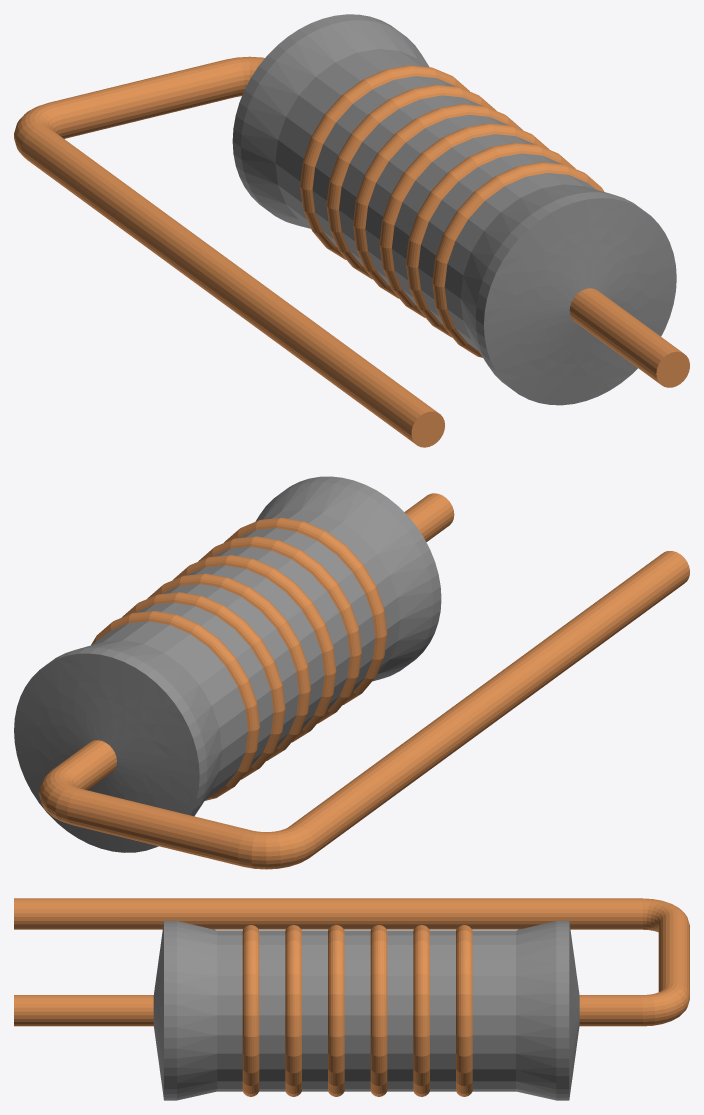
The model's file is L_Axial_L9.5mm_D4.0mm_P5.08mm_Vertical_Fastron_SMCC.glb.
The picture shows the model from 3 angles, top to bottom: view 1: azimuth 30°, elevation 25°; view 2: azimuth 150°, elevation 25°; view 3: azimuth 270°, elevation 25°; orthographic projection. The views are drawn at different scales.
Parts seen in each view (by area): view 1: Shape_IndexedFaceSet.002, Shape_IndexedFaceSet.025, Shape_IndexedFaceSet.018, Shape_IndexedFaceSet.023, Shape_IndexedFaceSet.017, Shape_IndexedFaceSet.001, Shape_IndexedFaceSet.005, Shape_IndexedFaceSet.004, Shape_IndexedFaceSet.006, Shape_IndexedFaceSet.008, Shape_IndexedFaceSet.010, Shape_IndexedFaceSet.014 (+12 smaller); view 2: Shape_IndexedFaceSet.020, Shape_IndexedFaceSet.025, Shape_IndexedFaceSet.004, Shape_IndexedFaceSet.023, Shape_IndexedFaceSet.017, Shape_IndexedFaceSet.018, Shape_IndexedFaceSet.016, Shape_IndexedFaceSet.012, Shape_IndexedFaceSet.008, Shape_IndexedFaceSet.006, Shape_IndexedFaceSet.014, Shape_IndexedFaceSet.010 (+12 smaller); view 3: Shape_IndexedFaceSet.025, Shape_IndexedFaceSet.017, Shape_IndexedFaceSet.018, Shape_IndexedFaceSet.004, Shape_IndexedFaceSet.001, Shape_IndexedFaceSet.007, Shape_IndexedFaceSet.011, Shape_IndexedFaceSet.013, Shape_IndexedFaceSet.005, Shape_IndexedFaceSet.009, Shape_IndexedFaceSet.015, Shape_IndexedFaceSet.006 (+13 smaller).
Part boxes in pixels (x1=…): Shape_IndexedFaceSet.002: x1=484, y1=198, x2=676, y2=405; Shape_IndexedFaceSet.025: x1=21, y1=126, x2=437, y2=444; Shape_IndexedFaceSet.018: x1=240, y1=20, x2=429, y2=228; Shape_IndexedFaceSet.023: x1=49, y1=59, x2=239, y2=138; Shape_IndexedFaceSet.017: x1=275, y1=49, x2=428, y2=227; Shape_IndexedFaceSet.001: x1=569, y1=288, x2=682, y2=384; Shape_IndexedFaceSet.005: x1=444, y1=173, x2=595, y2=350; Shape_IndexedFaceSet.004: x1=460, y1=184, x2=611, y2=363; Shape_IndexedFaceSet.006: x1=432, y1=162, x2=604, y2=357; Shape_IndexedFaceSet.008: x1=406, y1=142, x2=575, y2=337; Shape_IndexedFaceSet.010: x1=379, y1=123, x2=549, y2=317; Shape_IndexedFaceSet.014: x1=326, y1=84, x2=496, y2=279; Shape_IndexedFaceSet.020: x1=14, y1=653, x2=199, y2=852; Shape_IndexedFaceSet.025: x1=289, y1=551, x2=689, y2=856; Shape_IndexedFaceSet.004: x1=255, y1=482, x2=433, y2=681; Shape_IndexedFaceSet.023: x1=67, y1=788, x2=250, y2=866; Shape_IndexedFaceSet.017: x1=91, y1=621, x2=247, y2=800; Shape_IndexedFaceSet.018: x1=77, y1=640, x2=221, y2=813; Shape_IndexedFaceSet.016: x1=91, y1=611, x2=259, y2=800; Shape_IndexedFaceSet.012: x1=147, y1=573, x2=310, y2=760; Shape_IndexedFaceSet.008: x1=198, y1=536, x2=361, y2=723; Shape_IndexedFaceSet.006: x1=224, y1=517, x2=387, y2=704; Shape_IndexedFaceSet.014: x1=122, y1=592, x2=285, y2=779; Shape_IndexedFaceSet.010: x1=173, y1=555, x2=336, y2=742; Shape_IndexedFaceSet.025: x1=14, y1=898, x2=642, y2=929; Shape_IndexedFaceSet.017: x1=472, y1=930, x2=515, y2=1091; Shape_IndexedFaceSet.018: x1=516, y1=921, x2=556, y2=1100; Shape_IndexedFaceSet.004: x1=177, y1=921, x2=217, y2=1100; Shape_IndexedFaceSet.001: x1=14, y1=995, x2=153, y2=1026; Shape_IndexedFaceSet.007: x1=259, y1=930, x2=285, y2=1091; Shape_IndexedFaceSet.011: x1=344, y1=930, x2=370, y2=1091; Shape_IndexedFaceSet.013: x1=387, y1=930, x2=413, y2=1091; Shape_IndexedFaceSet.005: x1=217, y1=930, x2=242, y2=1091; Shape_IndexedFaceSet.009: x1=302, y1=930, x2=327, y2=1091; Shape_IndexedFaceSet.015: x1=430, y1=930, x2=455, y2=1091; Shape_IndexedFaceSet.006: x1=242, y1=925, x2=259, y2=1096.
Size of the model in its own units: 2.92 by 1.57 by 5.92.
